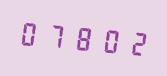eight: (70, 18, 95, 56)
seven: (44, 16, 69, 54)
two: (122, 23, 147, 61)
zero: (18, 14, 43, 52), (96, 21, 121, 59)
